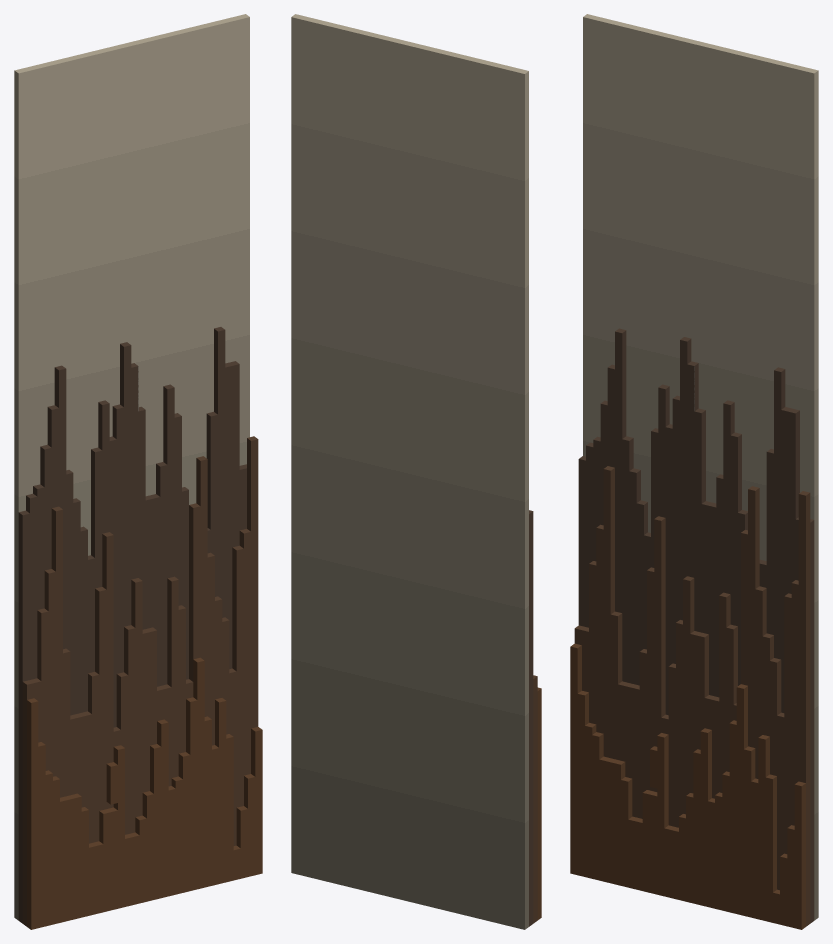
Rendered from scene_desert.glb.
The picture shows the model from 3 angles, left to right: view 1: azimuth 30°, elevation 25°; view 2: azimuth 150°, elevation 25°; view 3: azimuth 330°, elevation 25°; orthographic projection.
Parts seen in each view (by area): view 1: scene_desert_72, scene_desert_70, scene_desert_73, scene_desert_71; view 2: scene_desert_72, scene_desert_70, scene_desert_73, scene_desert_71; view 3: scene_desert_72, scene_desert_70, scene_desert_73, scene_desert_71.
Part boxes in pixels (bbox=[...]): scene_desert_72: bbox=[14, 14, 249, 920]; scene_desert_70: bbox=[18, 327, 246, 923]; scene_desert_73: bbox=[22, 436, 258, 926]; scene_desert_71: bbox=[27, 657, 262, 929]; scene_desert_72: bbox=[291, 14, 528, 929]; scene_desert_70: bbox=[529, 510, 533, 926]; scene_desert_73: bbox=[533, 675, 537, 923]; scene_desert_71: bbox=[537, 687, 541, 920]; scene_desert_72: bbox=[583, 14, 818, 920]; scene_desert_70: bbox=[578, 328, 814, 923]; scene_desert_73: bbox=[574, 466, 810, 926]; scene_desert_71: bbox=[570, 643, 805, 929].
Size of the model in its own units: 3.2 by 11.2 by 0.4.
Materials: 1 (1 with a texture image).
